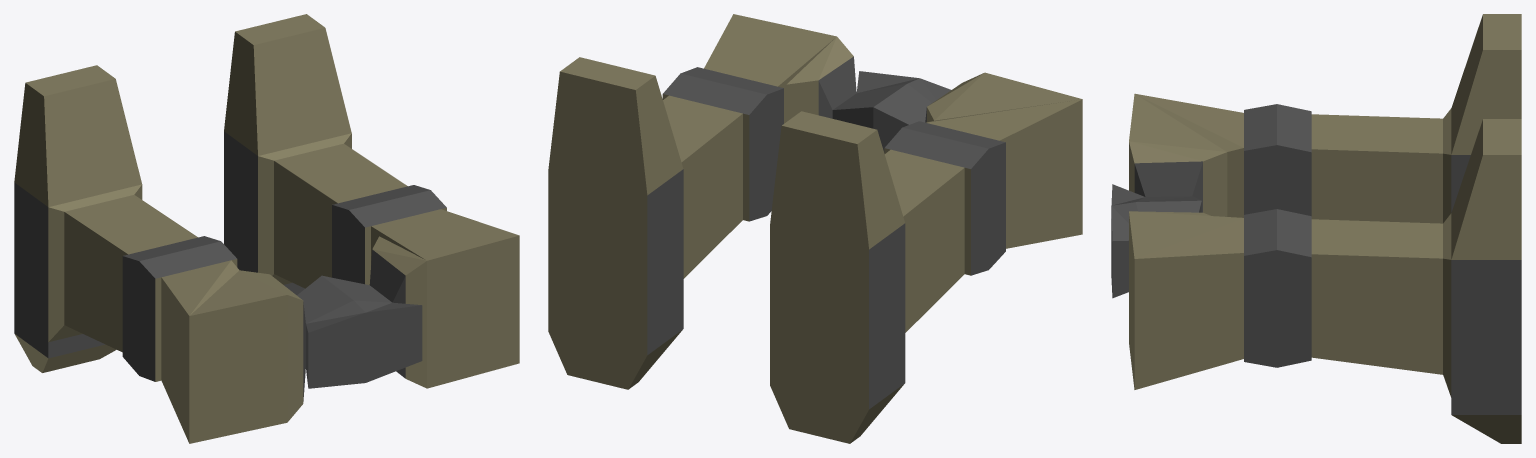
Rendered from legs3.obj.
3 views of the same model, side by side, from view 1: azimuth 30°, elevation 25°; view 2: azimuth 150°, elevation 25°; view 3: azimuth 270°, elevation 25° (orthographic). The views are drawn at different scales.
Visible parts, largest first — view 1: MechLegs3; view 2: MechLegs3; view 3: MechLegs3.
Boxes of the visible parts, x1=… form: MechLegs3: x1=14, y1=14, x2=519, y2=443; MechLegs3: x1=548, y1=14, x2=1082, y2=443; MechLegs3: x1=1111, y1=14, x2=1521, y2=443.
Size of the model in its own units: 5.53 by 4.56 by 5.79.
Materials: 1 (1 with a texture image).
